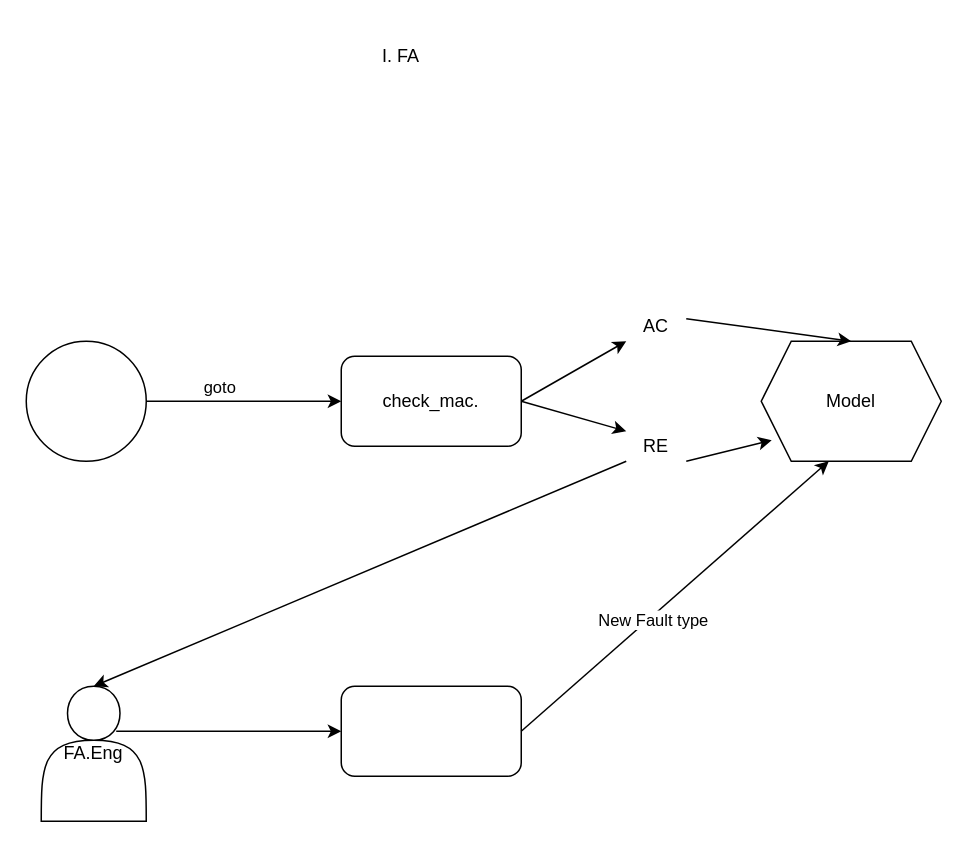
Some shapes in this 968 by 848 pixel diagram are drawn without their labels. Here are the shapes that lost their labels. From the top down, the centre of each, then its label:
At pixel 85 400: "product".
At pixel 430 730: "Analy".
